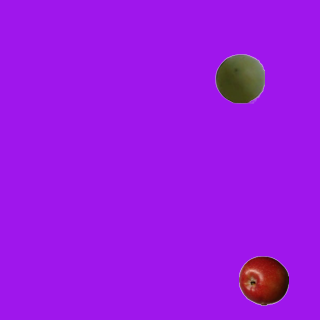Apple Braeburn: (238, 255, 288, 305)
Grape White 4: (214, 53, 264, 103)
